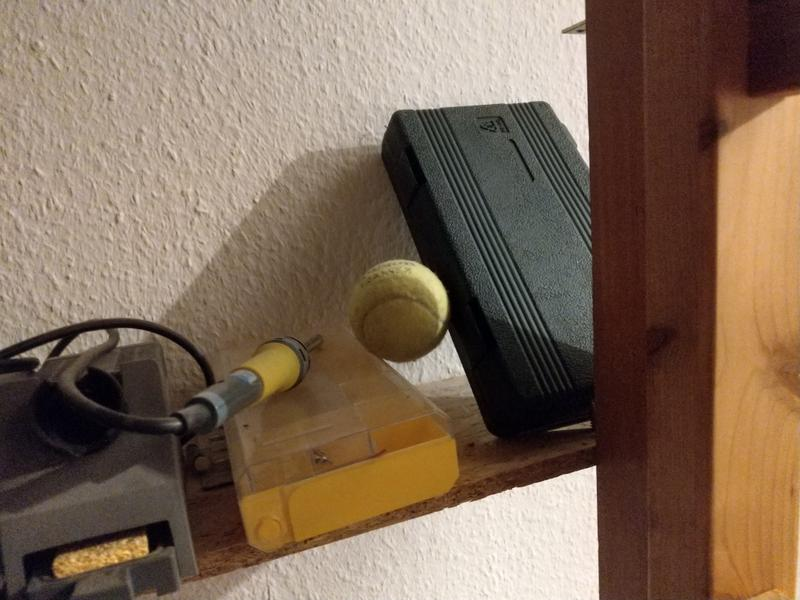Tennisball: (346, 255, 450, 367)
